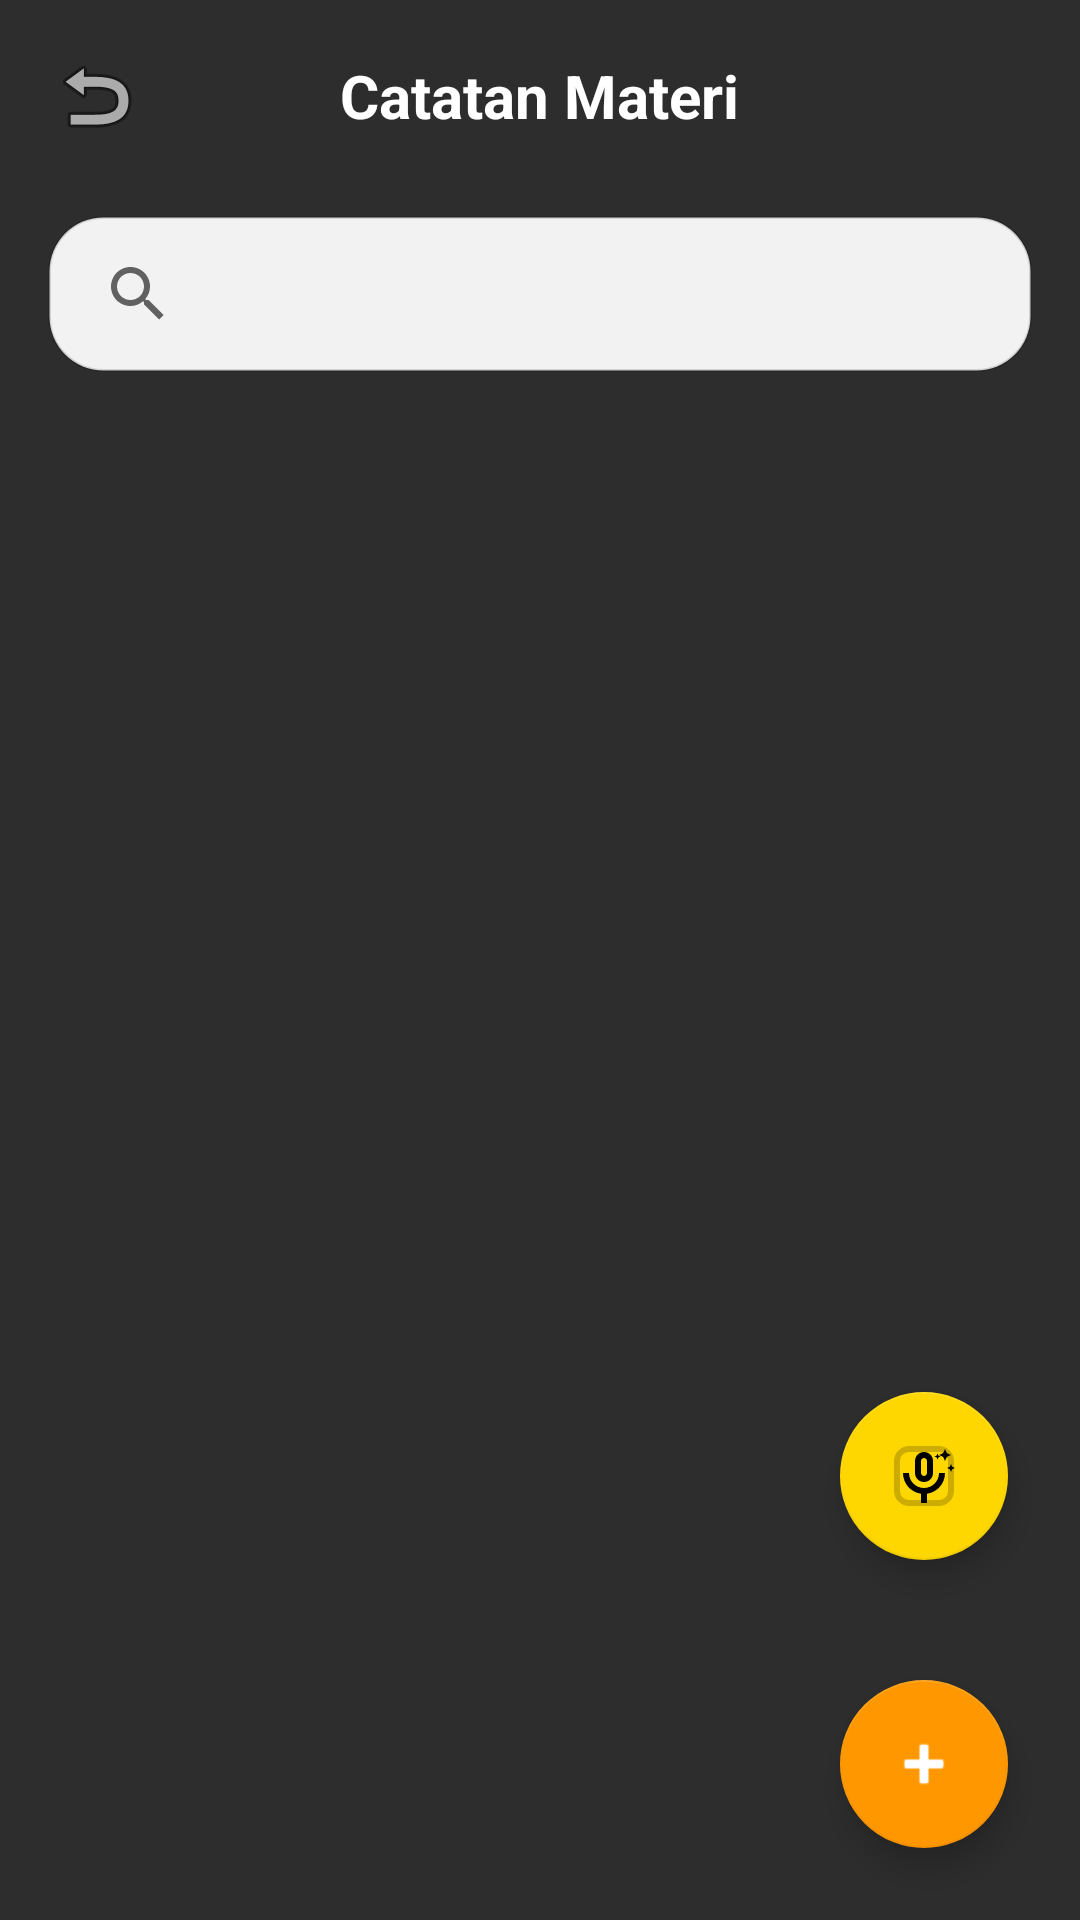

Icon click points for this 1080w x 1920h phone screenshot, format [x,y]:
add: [924,1764]
Kembali: [97,96]
mic ai: [924,1476]
